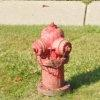a fire hydrant: (34, 21, 72, 96)
